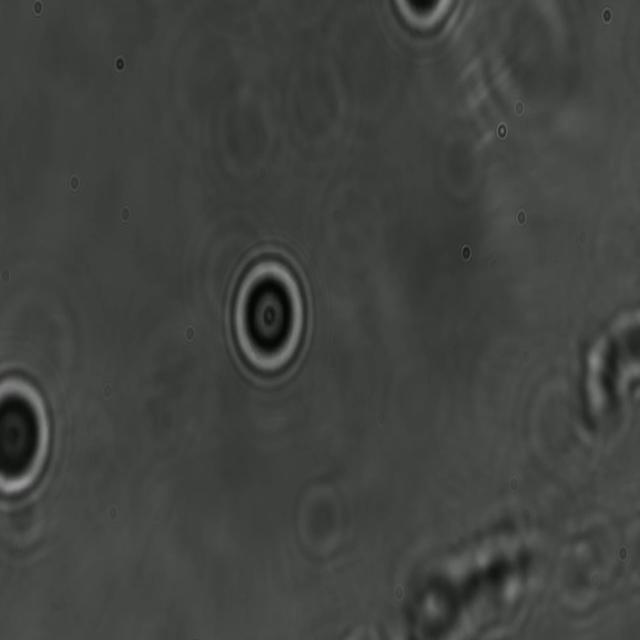LCELL: (222, 240, 318, 394)
